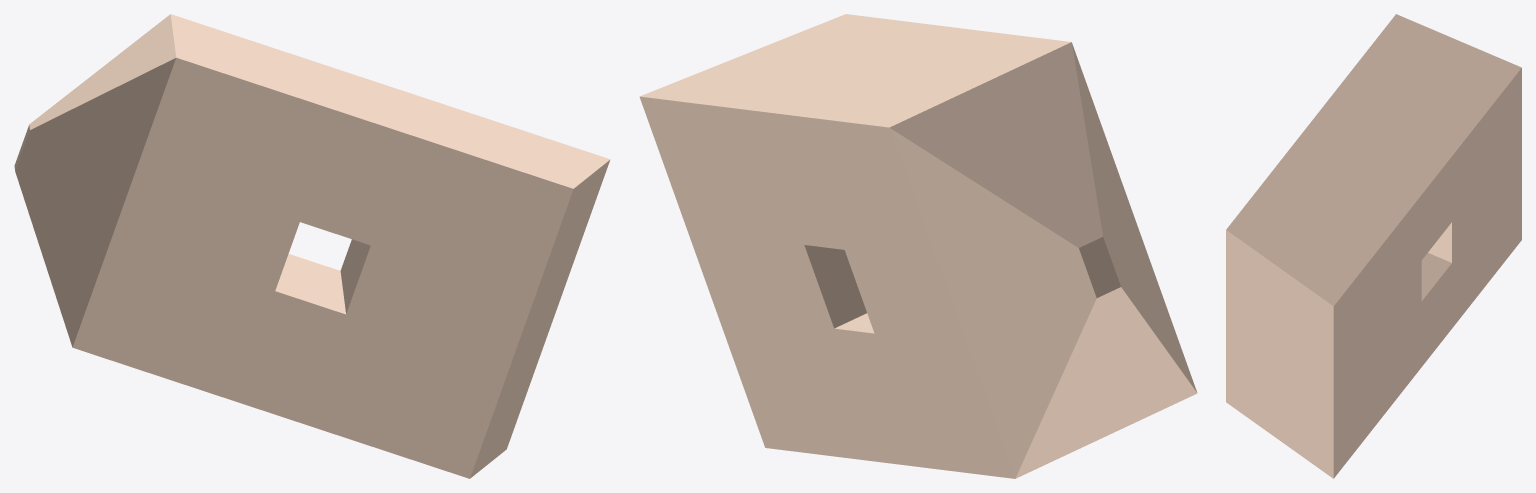
The model's file is Marteau - masselote_Quarts.obj.
The picture shows the model from 3 angles, left to right: view 1: azimuth 30°, elevation 25°; view 2: azimuth 150°, elevation 25°; view 3: azimuth 270°, elevation 25°; orthographic projection. The views are drawn at different scales.
Parts seen in each view (by area): view 1: Face_7, Face_3, Face_4, Face_8, Face_10, Face_12, Face_13; view 2: Face_6, Face_1, Face_4, Face_10, Face_9, Face_3, Face_13, Face_2; view 3: Face_4, Face_6, Face_8, Face_12, Face_11.
Part boxes in pixels (bbox=[...]): Face_7: bbox=[72, 58, 573, 478]; Face_3: bbox=[15, 58, 175, 347]; Face_4: bbox=[170, 14, 609, 188]; Face_8: bbox=[470, 160, 609, 478]; Face_10: bbox=[29, 14, 176, 129]; Face_12: bbox=[275, 254, 345, 314]; Face_13: bbox=[340, 239, 370, 313]; Face_6: bbox=[639, 96, 1014, 478]; Face_1: bbox=[889, 128, 1096, 478]; Face_4: bbox=[640, 14, 1071, 127]; Face_10: bbox=[889, 42, 1102, 247]; Face_9: bbox=[1015, 287, 1197, 478]; Face_3: bbox=[1072, 43, 1197, 392]; Face_13: bbox=[804, 245, 866, 328]; Face_2: bbox=[1079, 237, 1120, 297]; Face_4: bbox=[1226, 14, 1521, 306]; Face_6: bbox=[1333, 68, 1521, 478]; Face_8: bbox=[1226, 230, 1333, 478]; Face_12: bbox=[1421, 253, 1451, 300]; Face_11: bbox=[1428, 222, 1451, 262].
Size of the model in its own units: 0.0192 by 0.0159 by 0.0122.
